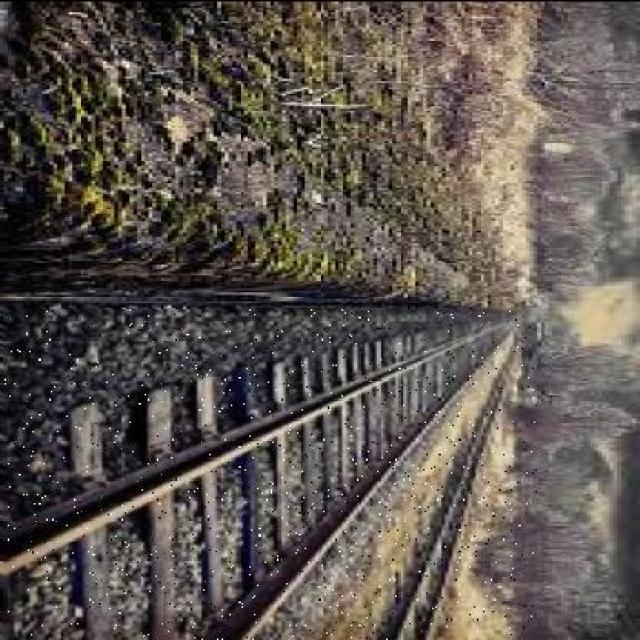rail: (5, 308, 536, 638)
